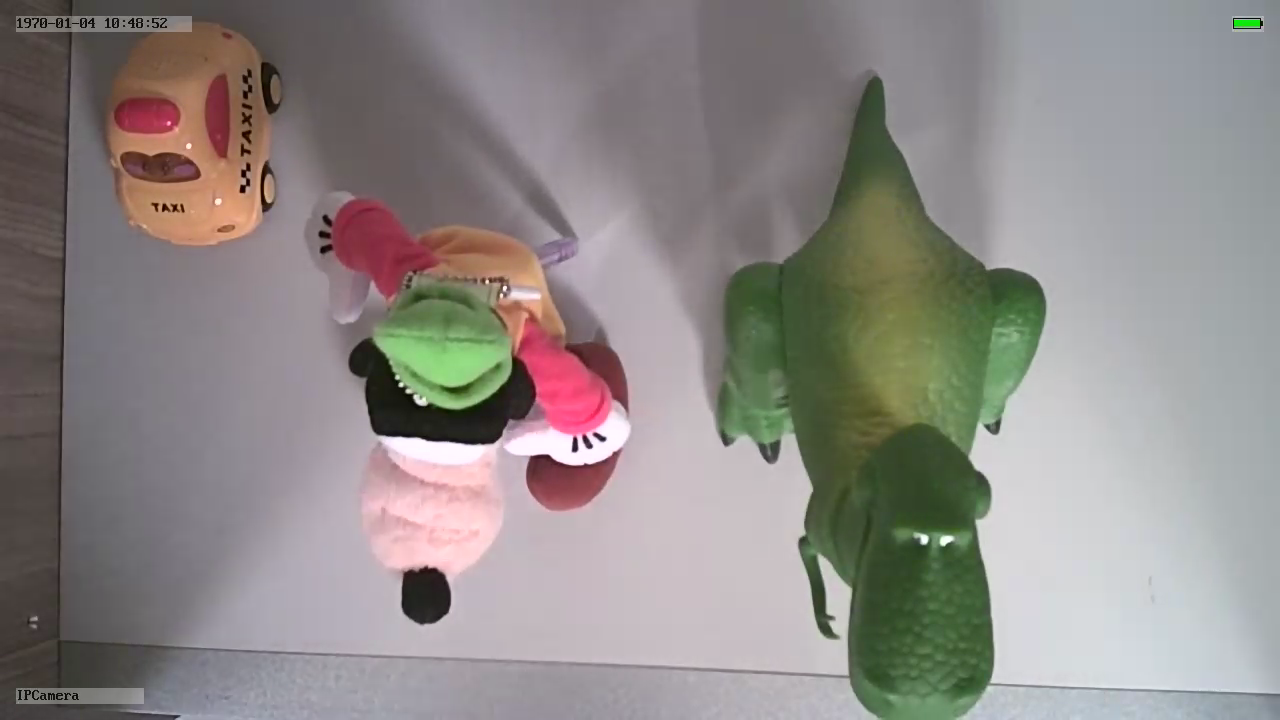goofy: (301, 189, 639, 635)
